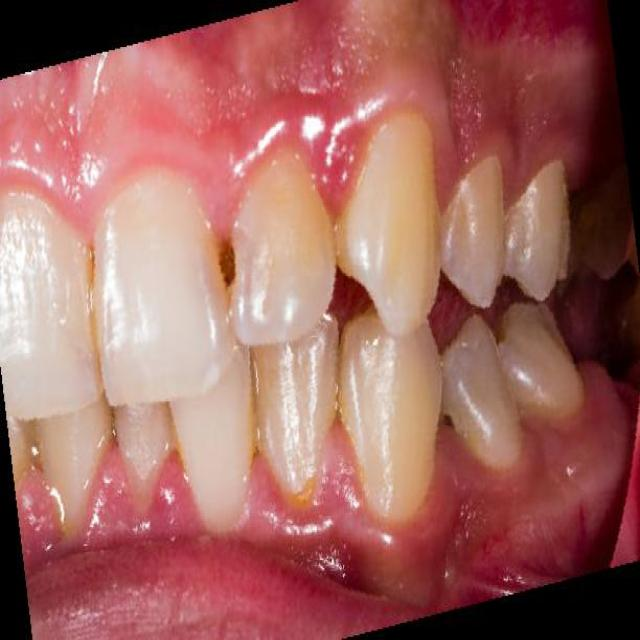caries: (204, 225, 251, 299)
